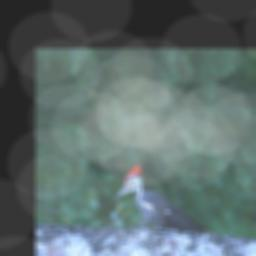Woodpecker: (109, 162, 215, 238)
